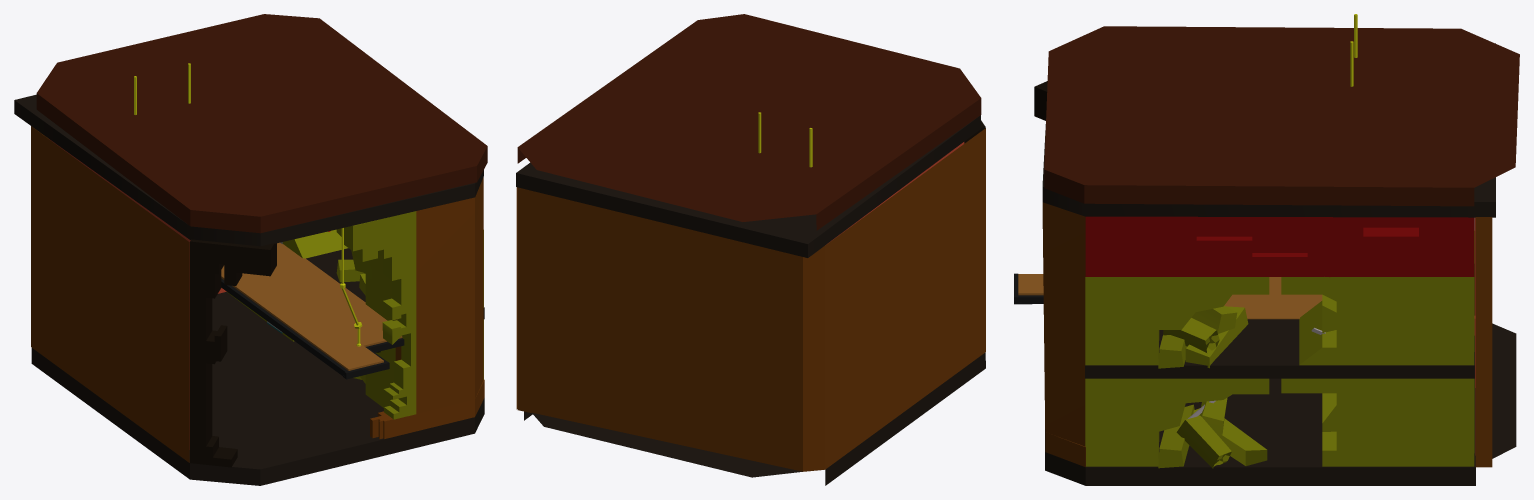
Rendered from Factory13.FBX.
3 views of the same model, side by side, from view 1: azimuth 30°, elevation 25°; view 2: azimuth 150°, elevation 25°; view 3: azimuth 270°, elevation 25° (orthographic). The views are drawn at different scales.
Visible parts, largest first — view 1: Broken_Factory1.3; view 2: Broken_Factory1.3; view 3: Broken_Factory1.3.
Part boxes in pixels (x1=…): Broken_Factory1.3: x1=14, y1=14, x2=487, y2=485; Broken_Factory1.3: x1=516, y1=14, x2=985, y2=485; Broken_Factory1.3: x1=1014, y1=14, x2=1519, y2=485.
Size of the model in its own units: 24117 by 23530 by 31158.
